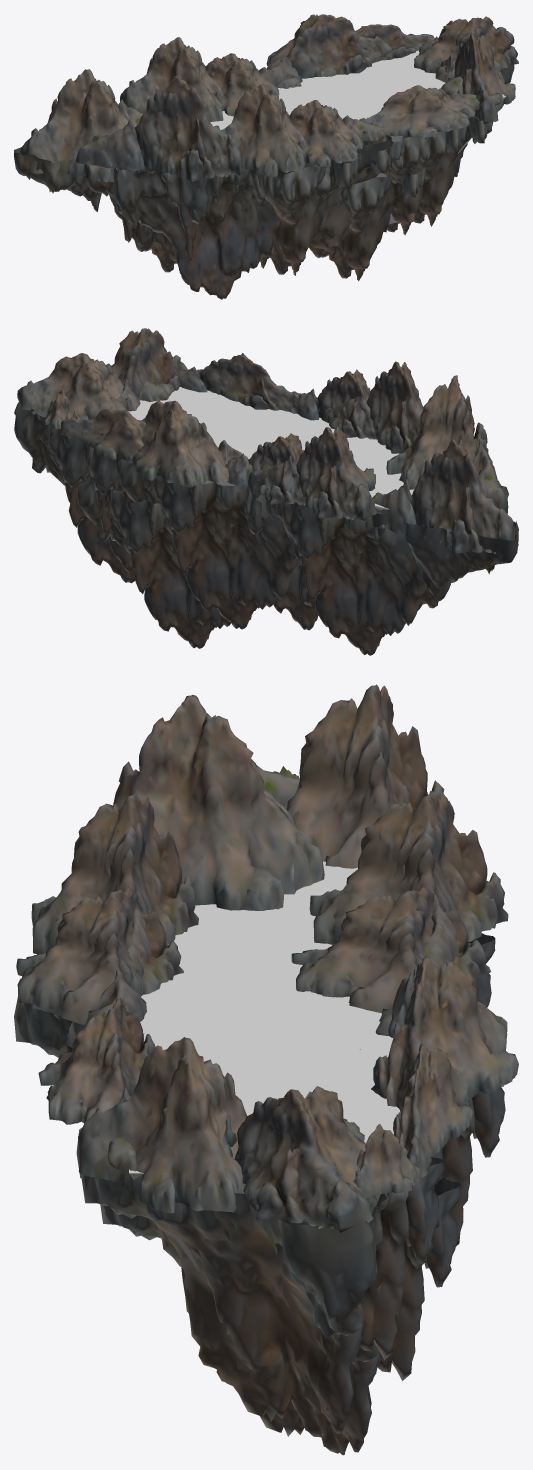
The model's file is OPTİMİZE COMLATEground001.fbx.
The picture shows the model from 3 angles, top to bottom: view 1: azimuth 30°, elevation 25°; view 2: azimuth 150°, elevation 25°; view 3: azimuth 270°, elevation 25°; orthographic projection. The views are drawn at different scales.
Visible parts, largest first — view 1: Mountain Peak Photoscan.018; view 2: Mountain Peak Photoscan.018; view 3: Mountain Peak Photoscan.018.
Part boxes in pixels (left/top/right/bottom): Mountain Peak Photoscan.018: left=14, top=14, right=518, bottom=299; Mountain Peak Photoscan.018: left=14, top=328, right=518, bottom=655; Mountain Peak Photoscan.018: left=14, top=684, right=518, bottom=1455.
Size of the model in its own units: 35238 by 19359 by 15895.
